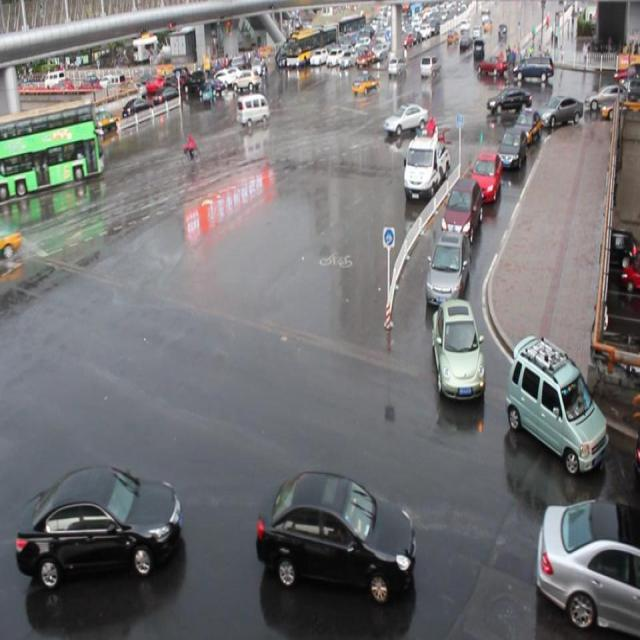BigCar: (0, 110, 112, 211)
car: (253, 466, 409, 622), (4, 466, 184, 574), (511, 320, 606, 461), (410, 289, 497, 409), (386, 129, 445, 193), (435, 215, 466, 305), (238, 92, 280, 136)
